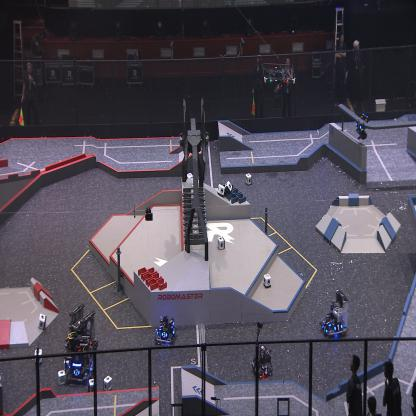car: (63, 332, 92, 386), (69, 304, 98, 358), (319, 290, 348, 338), (252, 344, 274, 379), (155, 313, 179, 344)
